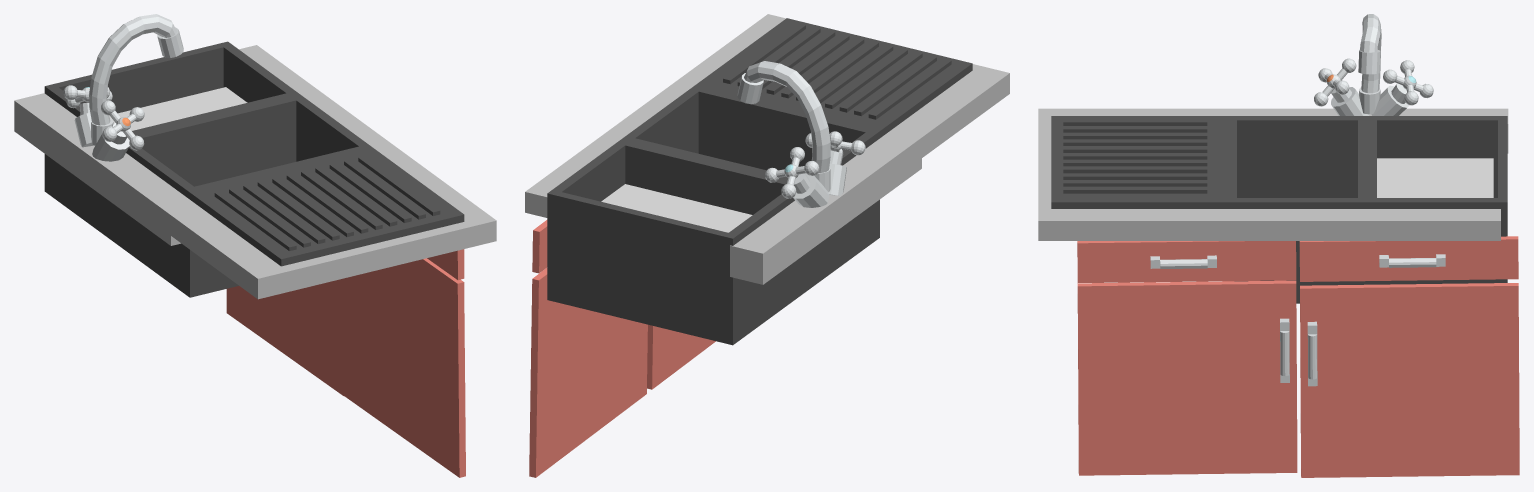
Rendered from sink.fbx.
3 views of the same model, side by side, from view 1: azimuth 30°, elevation 25°; view 2: azimuth 150°, elevation 25°; view 3: azimuth 270°, elevation 25° (orthographic). The views are drawn at different scales.
Parts seen in each view (by area): view 1: sink; view 2: sink; view 3: sink.
Part boxes in pixels (box(x1,y1,x2,y2)): sink: box(14, 14, 496, 477); sink: box(525, 14, 1009, 477); sink: box(1038, 14, 1519, 477).
Size of the model in its own units: 75.25 by 115 by 132.
